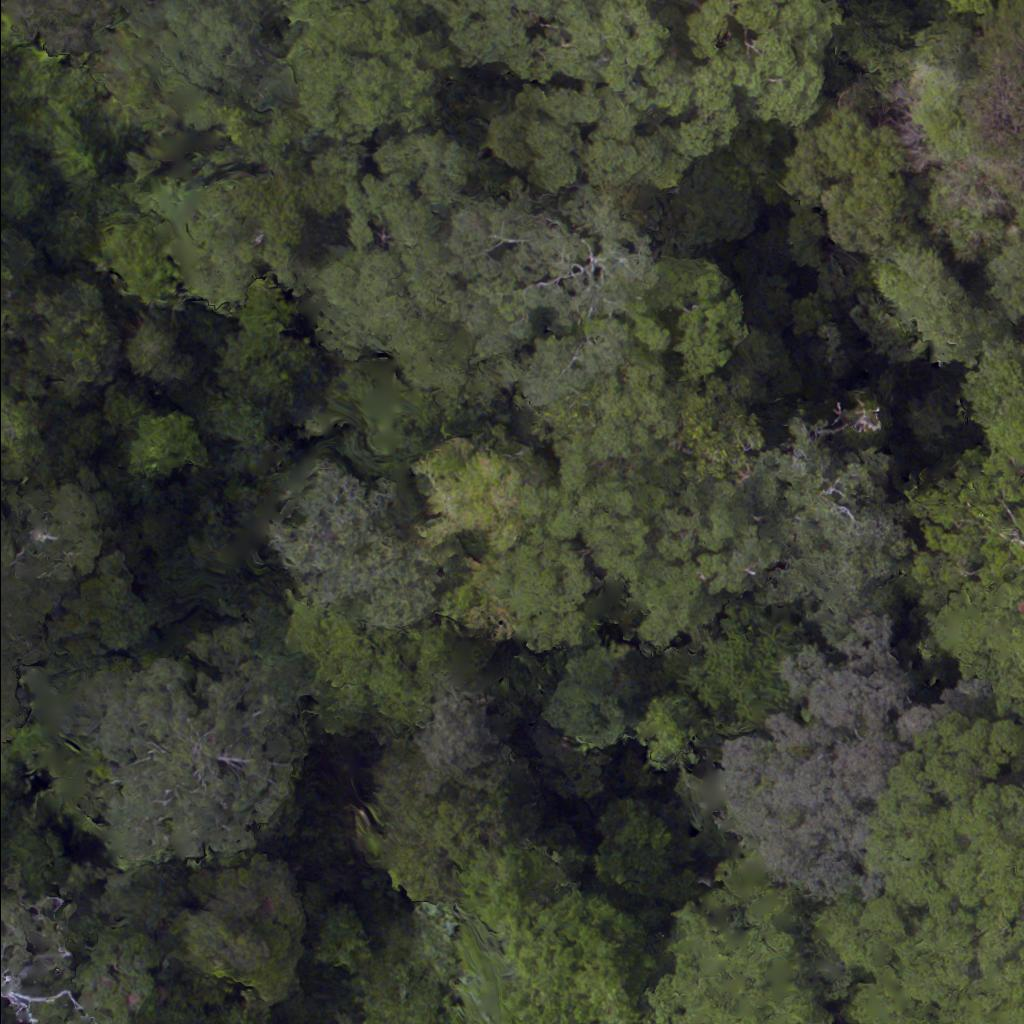crown: (723, 619, 983, 895), (830, 718, 1023, 1023)
